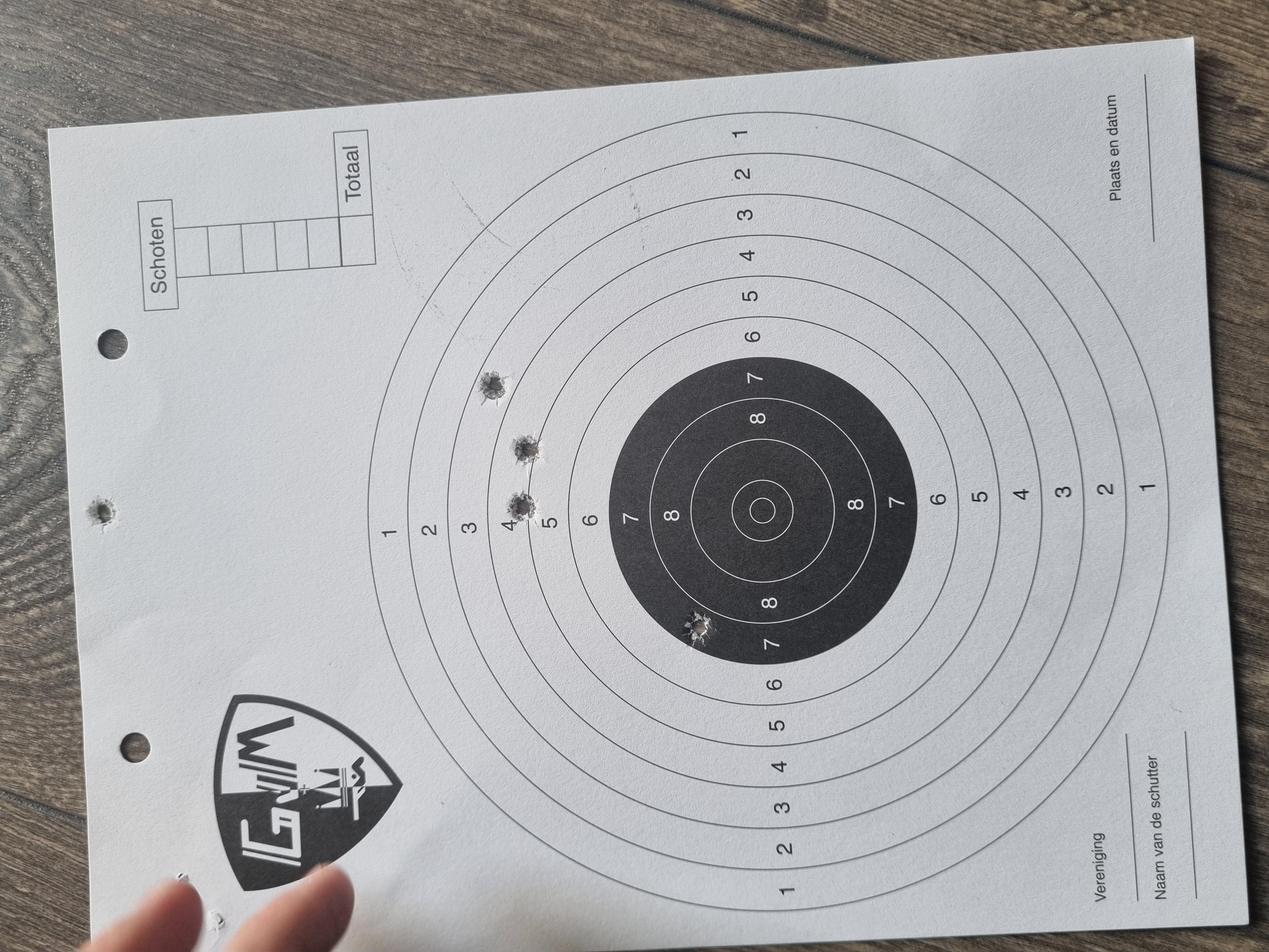hole: (558, 64, 606, 87), (403, 512, 453, 534), (569, 380, 617, 402), (727, 359, 774, 380), (650, 385, 689, 407)
